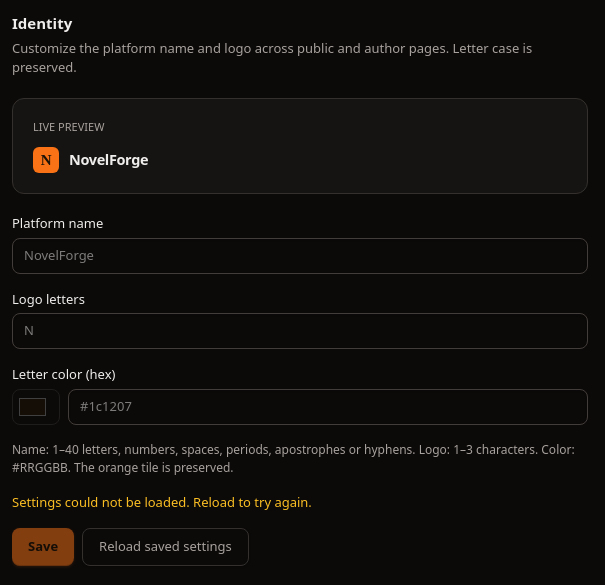
it: platform identity › retains draft on failed save and offers retry for initial load failure
Expected: the button with test id "brand-save" is disabled, left=12, top=528, right=74, bottom=566
Click the button "Reload saved settings" at (165, 547), box left=82, top=528, right=249, bottom=566
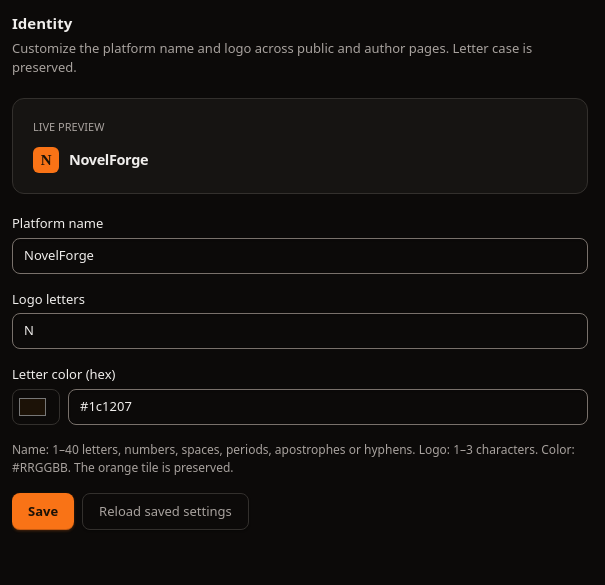
Replace the text in the field with test id "brand-name" with "New name" at (300, 256), box left=12, top=238, right=588, bottom=274
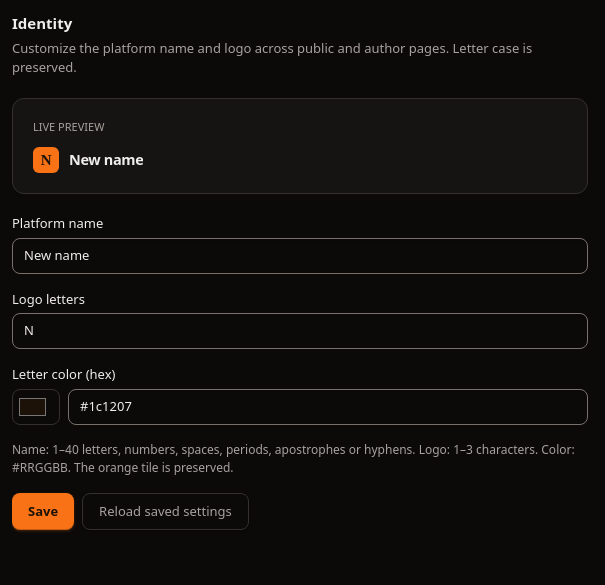
Submit the form, box left=12, top=214, right=588, bottom=530
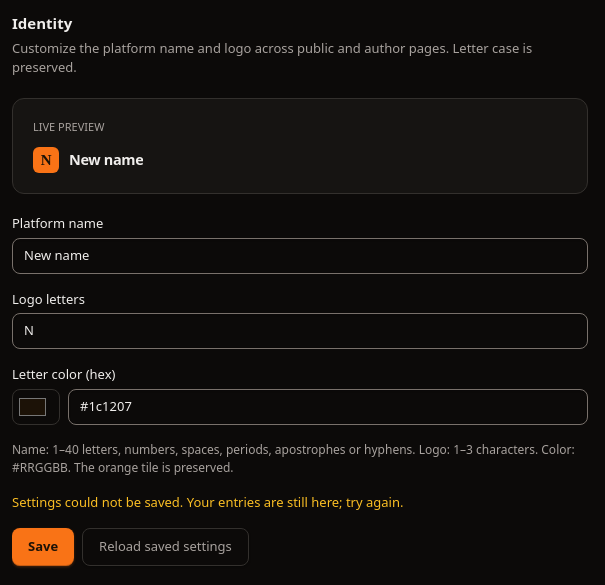
Now the text "Settings could not be saved. Your entries are still here; try again." is shown, box left=12, top=492, right=404, bottom=510
